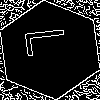L: (25, 25, 77, 58)
